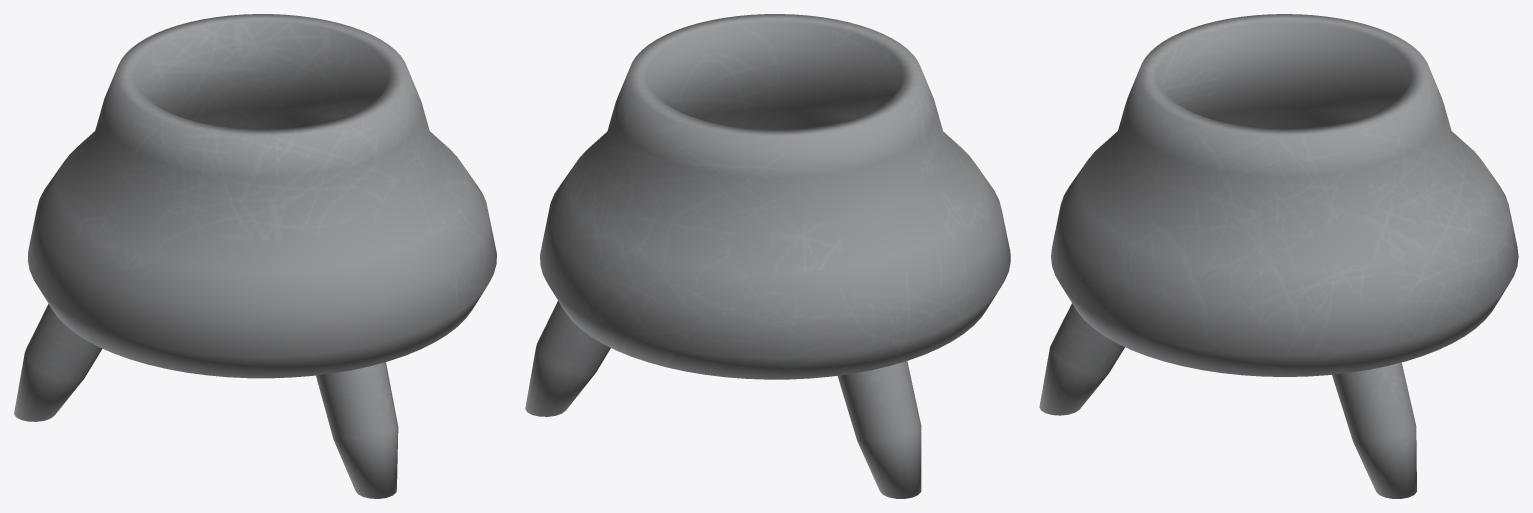
File: iron_cauldron.obj
3 views of the same model, side by side, from view 1: azimuth 30°, elevation 25°; view 2: azimuth 150°, elevation 25°; view 3: azimuth 270°, elevation 25° (orthographic).
Parts seen in each view (by area): view 1: Cylinder; view 2: Cylinder; view 3: Cylinder.
Part boxes in pixels (box(x1,y1,x2,y2)): Cylinder: box(14, 14, 496, 498); Cylinder: box(525, 14, 1010, 498); Cylinder: box(1039, 14, 1518, 498).
Bounding box in the file's own units: 0.9656 × 0.754 × 0.9894.
